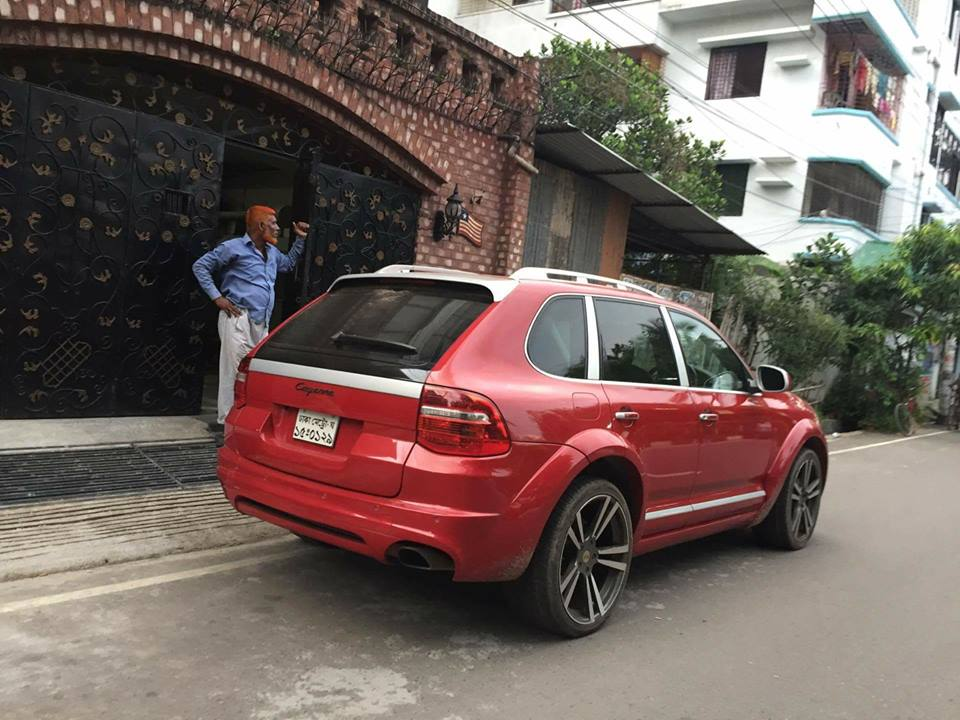registration_plate: (292, 407, 345, 447)
